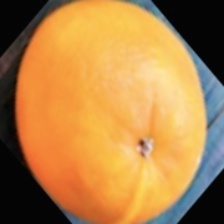orange: (13, 37, 185, 207)
